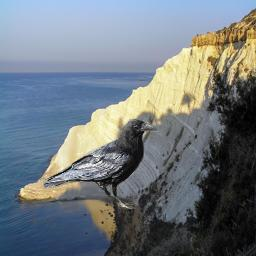Crow: (41, 117, 158, 209)
